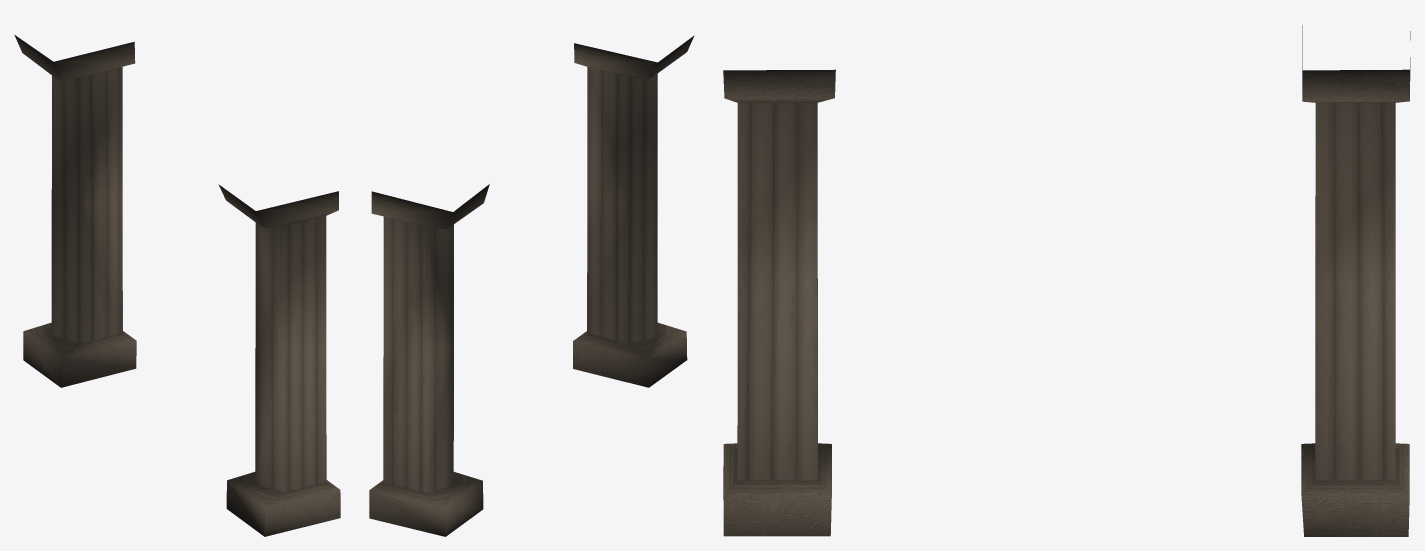
Rendered from pillars_front.glb.
The picture shows the model from 3 angles, left to right: view 1: azimuth 30°, elevation 25°; view 2: azimuth 150°, elevation 25°; view 3: azimuth 270°, elevation 25°; orthographic projection. The views are drawn at different scales.
Parts seen in each view (by area): view 1: pillars_front; view 2: pillars_front; view 3: pillars_front.
Boxes of the visible parts, left/top/right/bottom form: pillars_front: left=14, top=35, right=340, bottom=536; pillars_front: left=369, top=35, right=694, bottom=536; pillars_front: left=723, top=25, right=1410, bottom=536.
Bounding box in the file's own units: 21.8 × 80.67 × 108.
2 materials, 2 textured.
